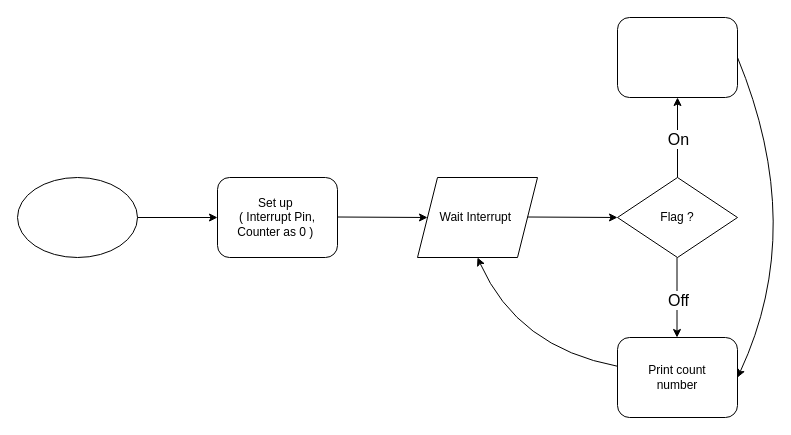
Some shapes in this 791 by 435 pixel diagram are drawn without their labels. Here are the shapes that lost their labels. From the top down, the box of each, then its label:
(616, 16, 738, 98): Count On time
(16, 176, 138, 258): Start
